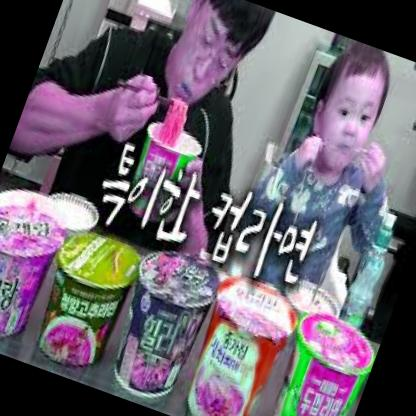Ramen: (102, 241, 231, 408), (172, 266, 310, 416), (27, 218, 150, 374), (254, 302, 383, 416), (0, 191, 72, 349), (122, 112, 211, 226)
